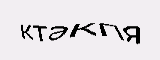К: (67, 22, 100, 39), (18, 24, 34, 42)
П: (98, 22, 122, 40)
Т: (31, 24, 47, 42)
Я: (122, 25, 141, 45)
Ә: (47, 23, 68, 42)
